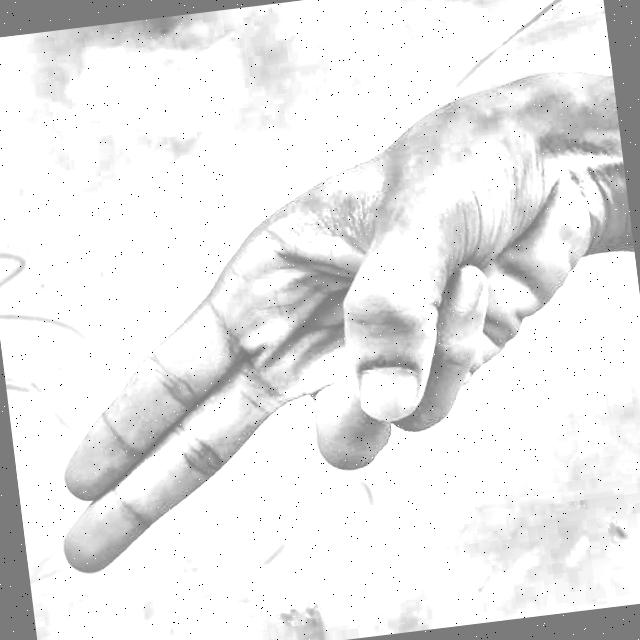Ha: (6, 63, 635, 628)
